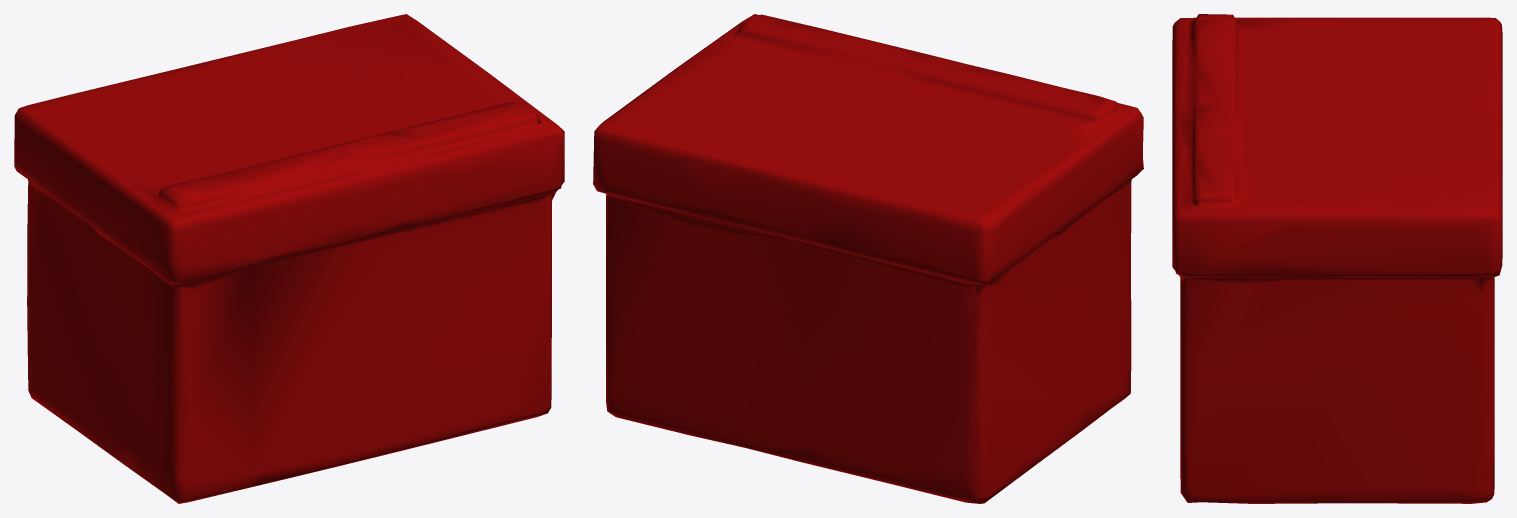
File: gen3d-toolbox-lod0.glb
3 views of the same model, side by side, from view 1: azimuth 30°, elevation 25°; view 2: azimuth 150°, elevation 25°; view 3: azimuth 270°, elevation 25° (orthographic). The views are drawn at different scales.
Parts seen in each view (by area): view 1: part_0; view 2: part_0; view 3: part_0.
Boxes of the visible parts, x1,y1,x2,y2 form: part_0: (14,14,564,503); part_0: (593,14,1143,503); part_0: (1172,14,1502,503).
Bounding box in the file's own units: 1.38 × 0.9994 × 0.9679.
